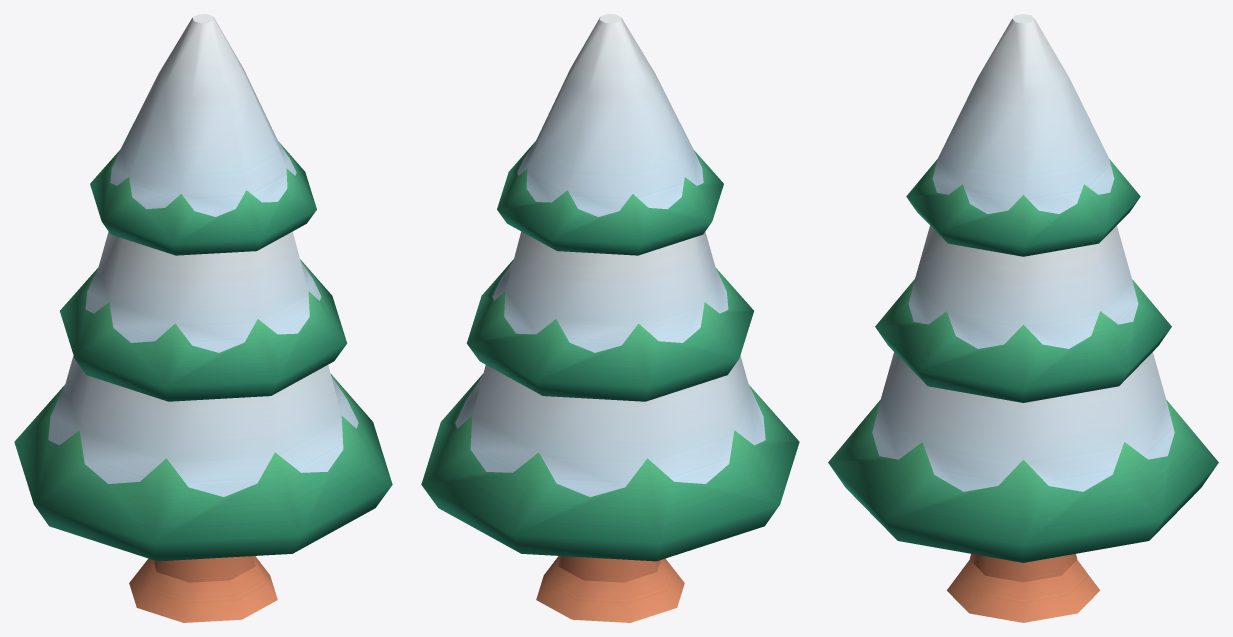
The model's file is tree_snow.glb.
3 renders of one model, left to right at view 1: azimuth 30°, elevation 25°; view 2: azimuth 150°, elevation 25°; view 3: azimuth 270°, elevation 25°, orthographic.
Parts seen in each view (by area): view 1: tree-snow-a; view 2: tree-snow-a; view 3: tree-snow-a.
Boxes of the visible parts, x1,y1,x2,y2 form: tree-snow-a: (14,14,392,622); tree-snow-a: (421,14,799,622); tree-snow-a: (828,14,1218,622).
Size of the model in its own units: 3.1 by 5 by 3.1.
1 material, 1 textured.
